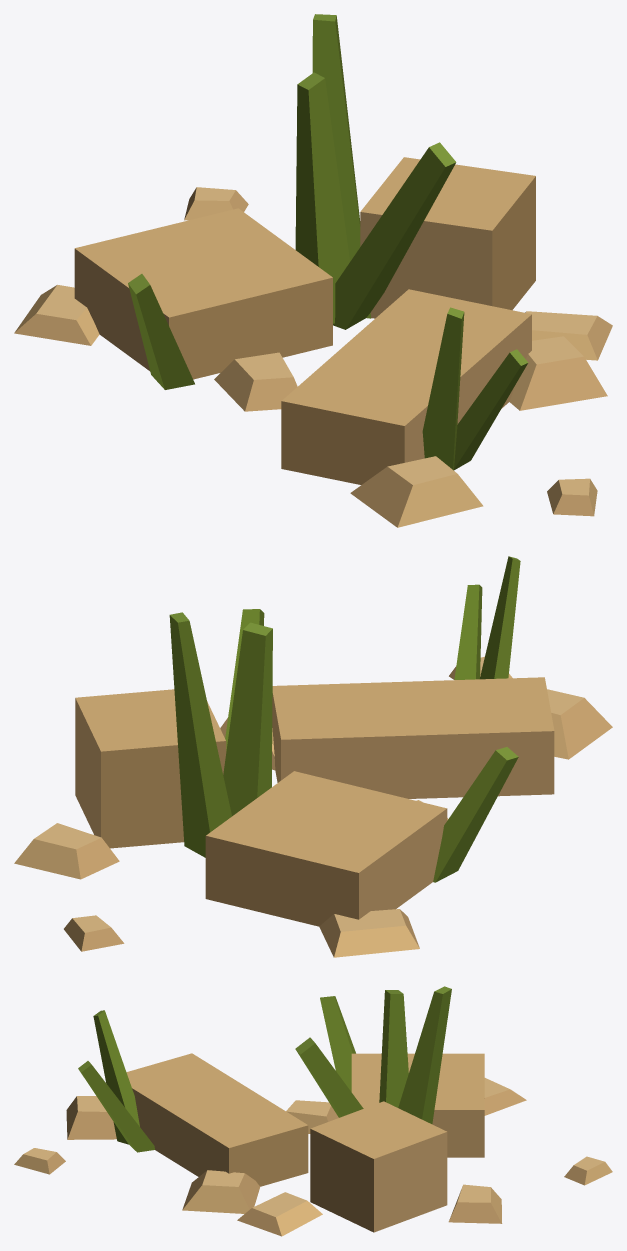
The model's file is ST_Prop_Rubble_01.fbx.
3 renders of one model, top to bottom at view 1: azimuth 30°, elevation 25°; view 2: azimuth 150°, elevation 25°; view 3: azimuth 270°, elevation 25°, orthographic. The views are drawn at different scales.
Visible parts, largest first — view 1: ST_Prop_Rubble_01; view 2: ST_Prop_Rubble_01; view 3: ST_Prop_Rubble_01.
Part boxes in pixels (x1,y1,x2,y2): ST_Prop_Rubble_01: (14,14,612,527); ST_Prop_Rubble_01: (14,556,612,957); ST_Prop_Rubble_01: (14,986,612,1236).
Bounding box in the file's own units: 2.79 × 1.56 × 4.5.
